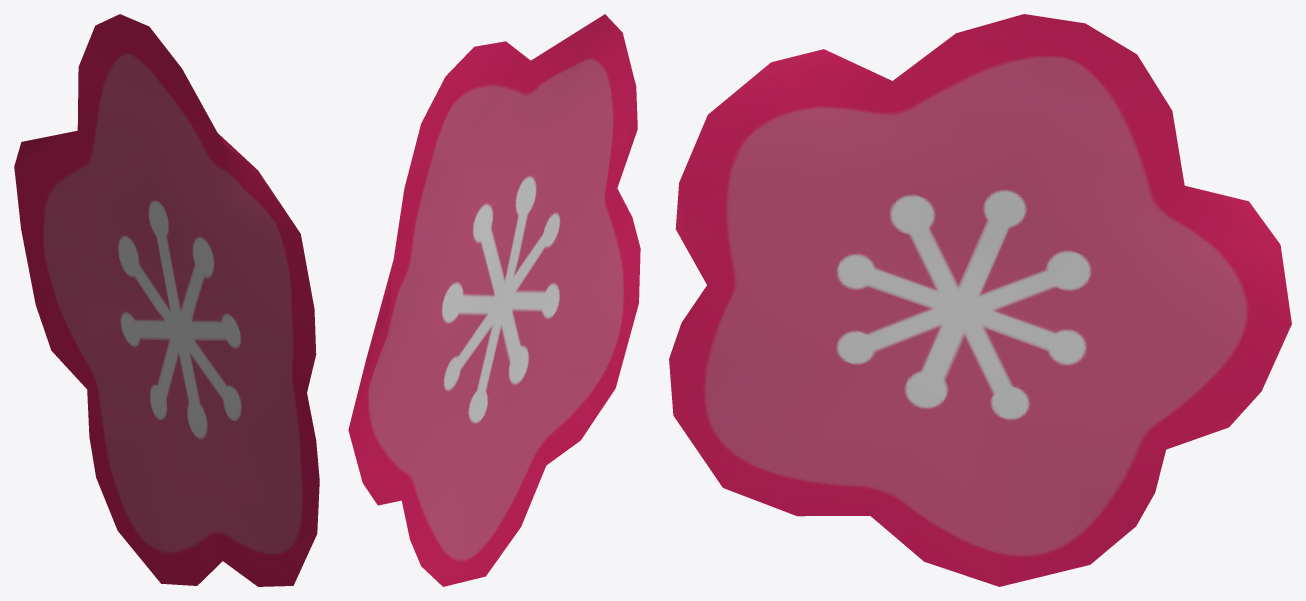
Rendered from ume2.fbx.
3 renders of one model, left to right at view 1: azimuth 30°, elevation 25°; view 2: azimuth 150°, elevation 25°; view 3: azimuth 270°, elevation 25°, orthographic. The views are drawn at different scales.
Visible parts, largest first — view 1: pasted__pasted__pasted__polySurface1; view 2: pasted__pasted__pasted__polySurface1; view 3: pasted__pasted__pasted__polySurface1.
Part boxes in pixels (bbox=[...]): pasted__pasted__pasted__polySurface1: bbox=[14, 14, 319, 586]; pasted__pasted__pasted__polySurface1: bbox=[348, 14, 640, 586]; pasted__pasted__pasted__polySurface1: bbox=[669, 14, 1291, 586].
Bounding box in the file's own units: 0.0783 × 1.57 × 1.55.
1 material, 1 textured.
